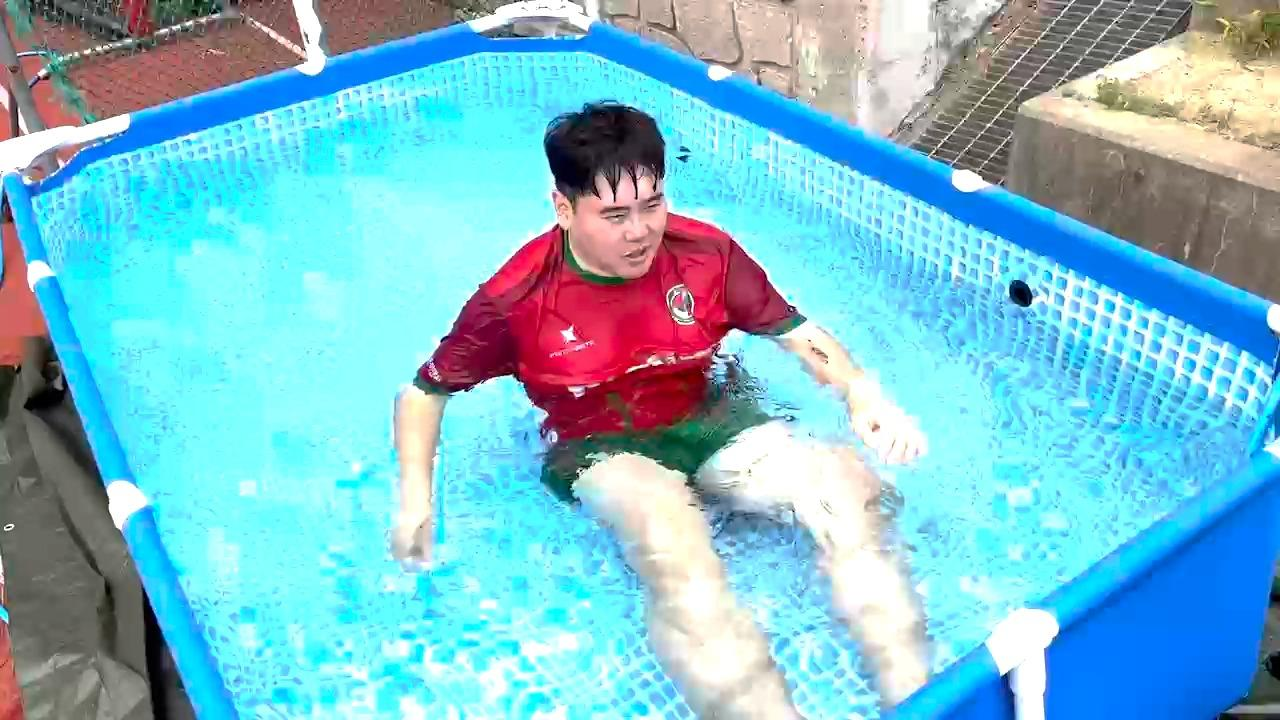Swimming: (363, 26, 986, 717)
